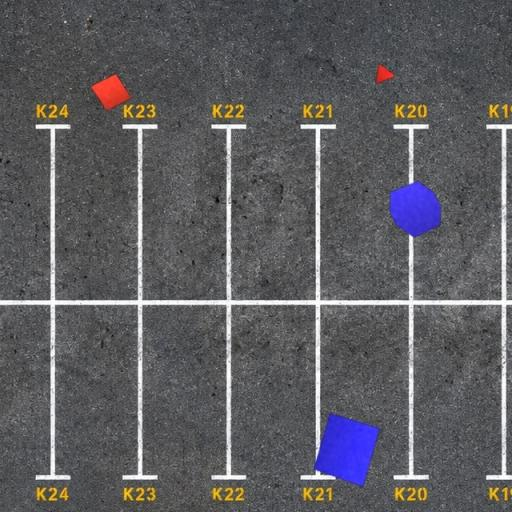BLUE_SQUARE: (313, 412, 381, 487)
RED_SQUARE: (90, 73, 132, 111)
